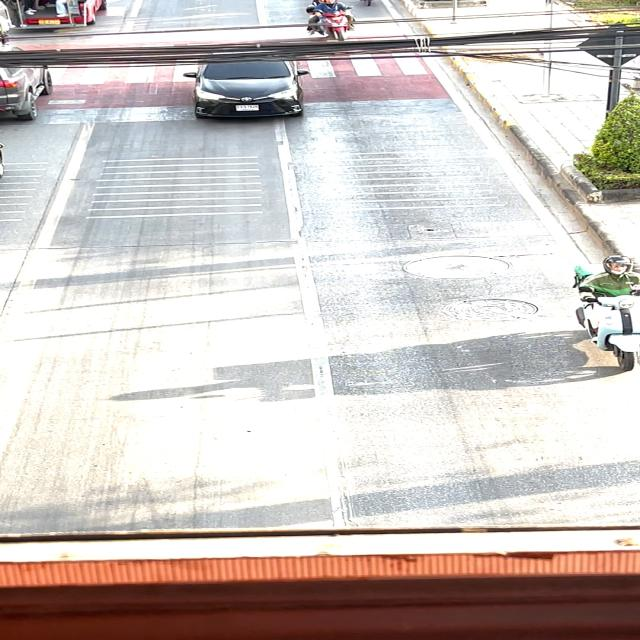car: (167, 48, 319, 128)
